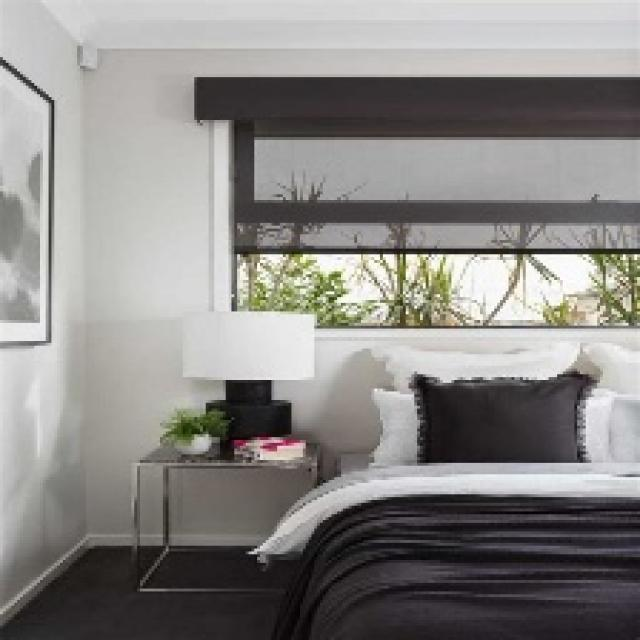Bed: (246, 334, 637, 637)
